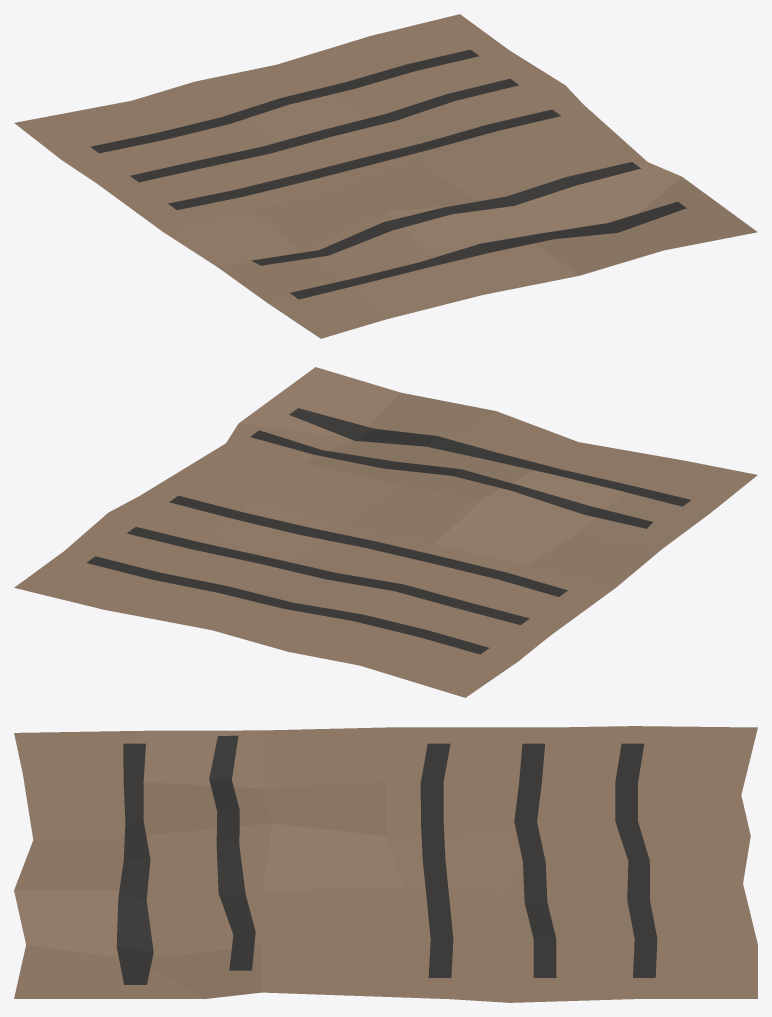
Rendered from Paper_log.glb.
The picture shows the model from 3 angles, top to bottom: view 1: azimuth 30°, elevation 25°; view 2: azimuth 150°, elevation 25°; view 3: azimuth 270°, elevation 25°; orthographic projection. The views are drawn at different scales.
Parts seen in each view (by area): view 1: Plane; view 2: Plane; view 3: Plane.
Part boxes in pixels (x1,y1,x2,y2): Plane: (14, 14, 757, 338); Plane: (14, 367, 757, 697); Plane: (14, 726, 757, 1002).
Bounding box in the file's own units: 0.442 × 0.024 × 0.502.
1 material, 1 textured.
